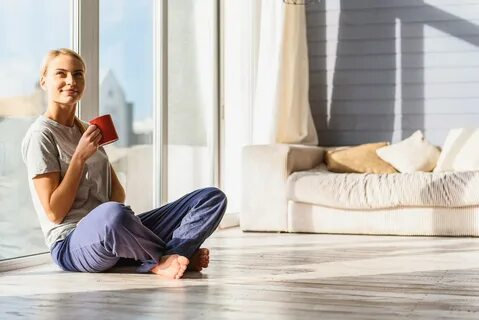awake: (21, 48, 228, 281)
